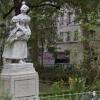Statue: (4, 2, 49, 67)
